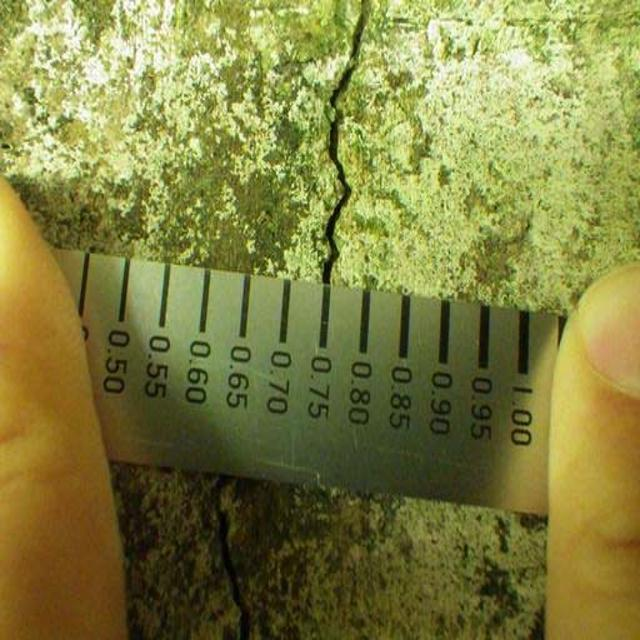crack: (308, 11, 383, 290), (194, 488, 266, 633)
